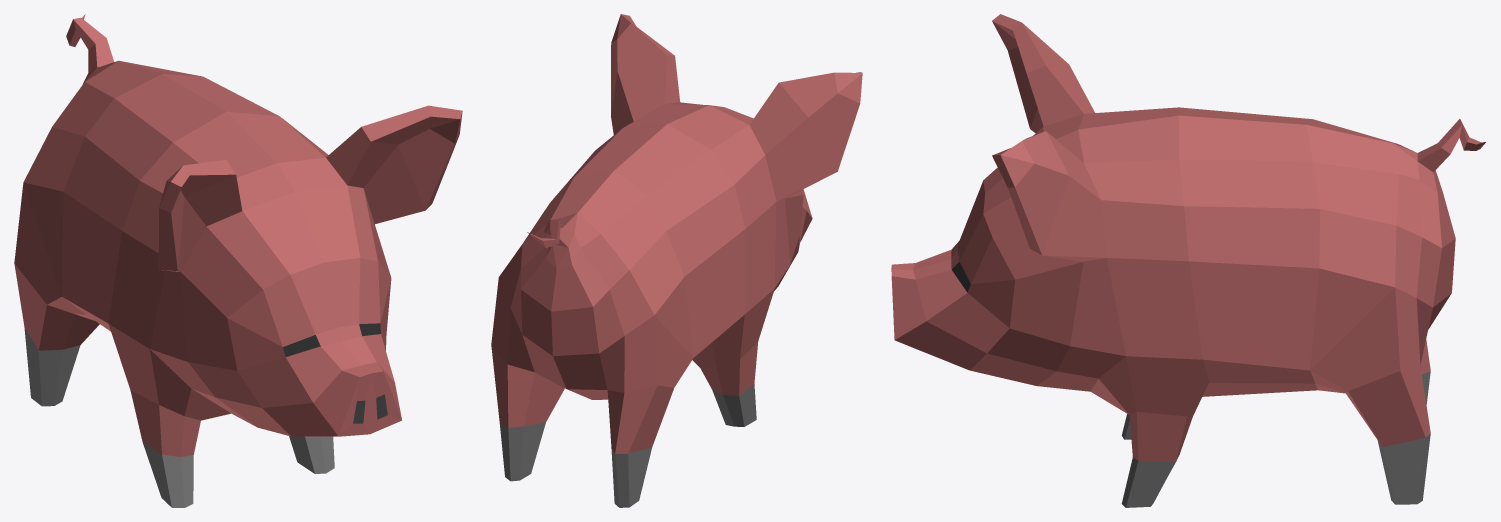
The model's file is Pig.FBX.
The picture shows the model from 3 angles, left to right: view 1: azimuth 30°, elevation 25°; view 2: azimuth 150°, elevation 25°; view 3: azimuth 270°, elevation 25°; orthographic projection. The views are drawn at different scales.
Parts seen in each view (by area): view 1: Pig_1; view 2: Pig_1; view 3: Pig_1.
Part boxes in pixels (bbox=[...]): Pig_1: bbox=[14, 14, 462, 507]; Pig_1: bbox=[491, 14, 862, 507]; Pig_1: bbox=[891, 14, 1485, 507].
Size of the model in its own units: 0.6326 by 0.7883 by 1.1.
Materials: 1 (1 with a texture image).
